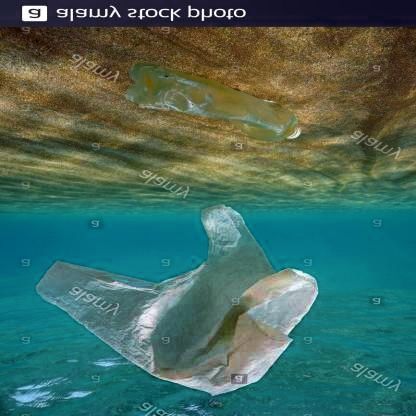pbag: (34, 203, 320, 396)
pbottle: (118, 60, 304, 144)
